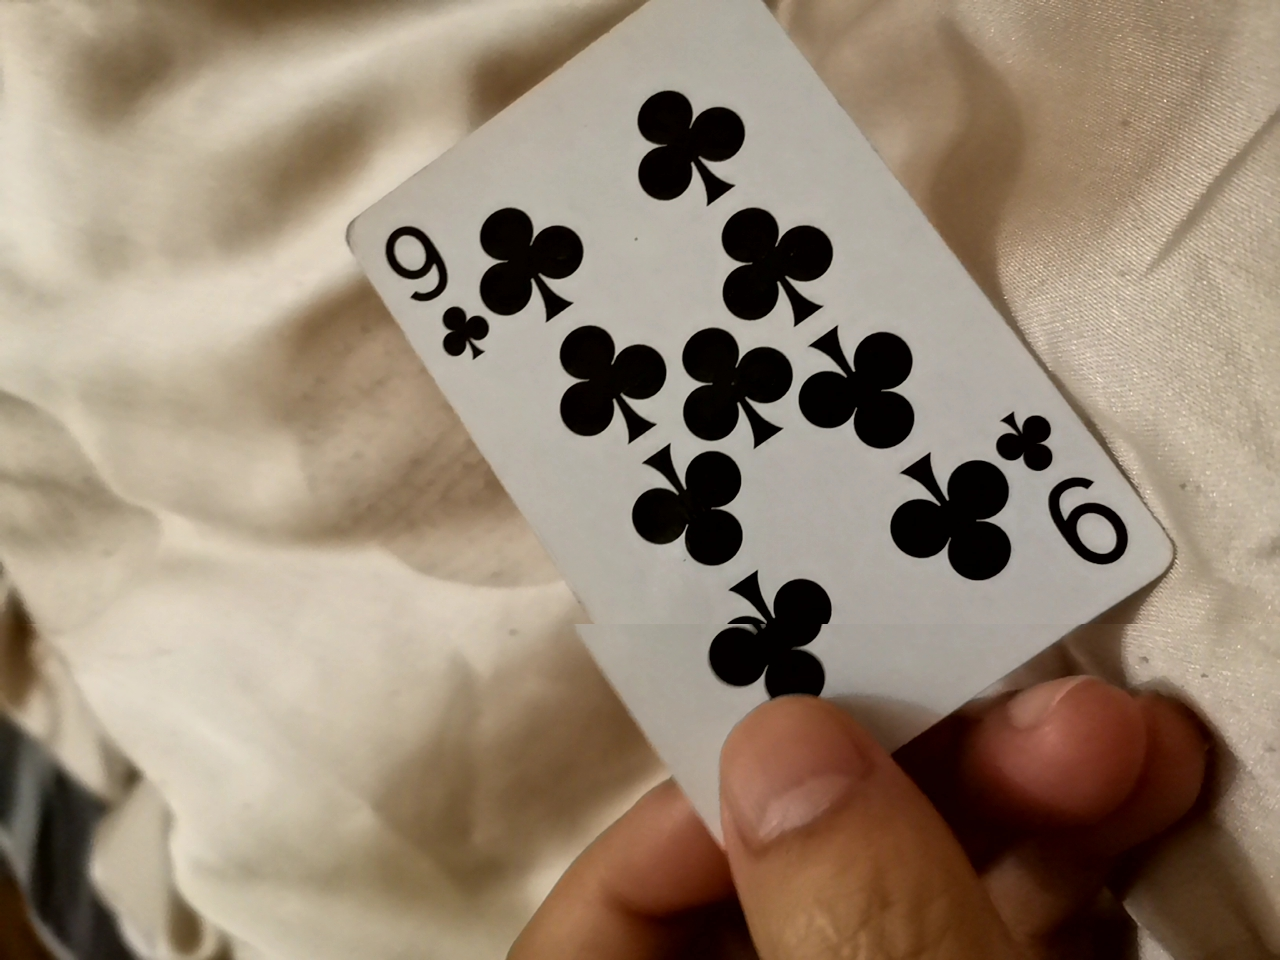mh 9: (269, 10, 1158, 830)
